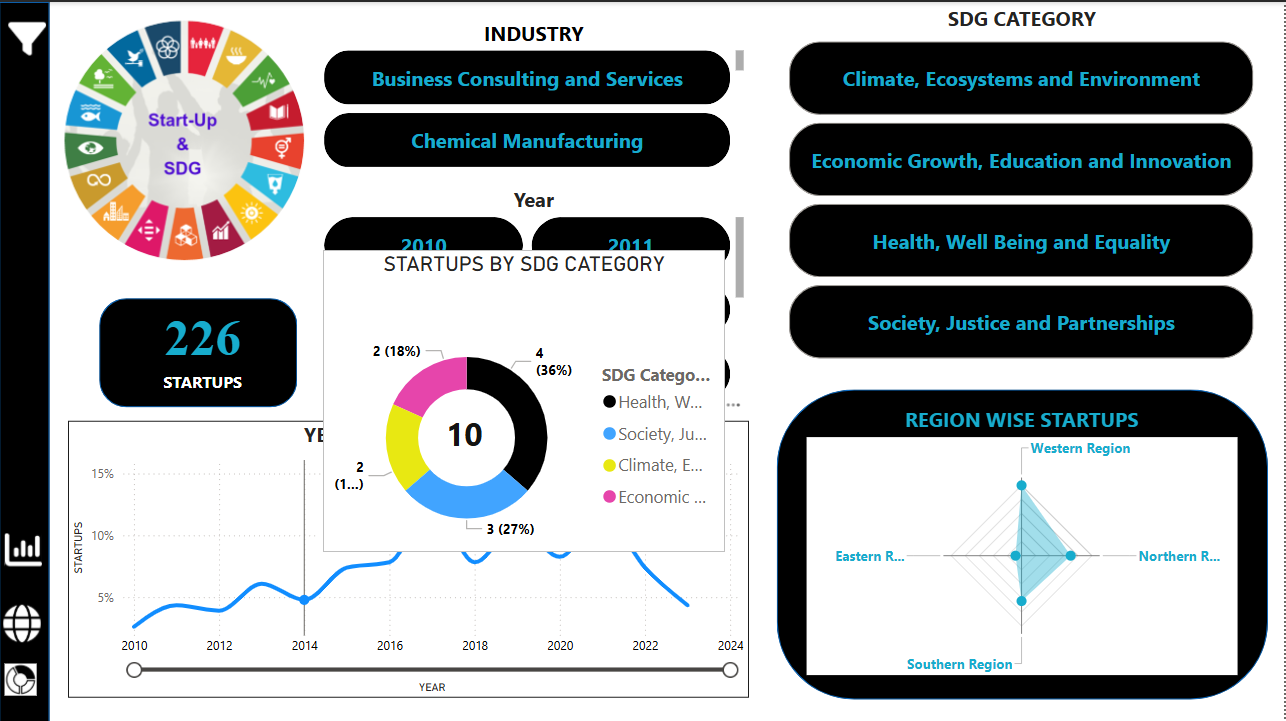

The page's visual inventory and layout, read from the dashboard file:
{"tool":"powerbi","page":{"name":"SDG dashboard ","canvas":[1280,720],"ordinal":0},"visuals":[{"type":"shape","box":[100.2,295.2,197.1,108.6],"z":0,"group":"g1"},{"type":"image","box":[51.4,14.3,268.6,248.6],"z":0},{"type":"cardVisual","fields":{"Data":["Count(Sheet1.Name)"]},"box":[109.6,291.6,186.6,113.9],"z":1000,"group":"g1"},{"type":"shape","box":[767.1,384.2,489.9,308.7],"z":1000},{"type":"group","id":"g1","title":"Startups","box":[100.2,291.6,197.1,113.9],"z":3000},{"type":"advancedSlicerVisual","fields":{"Values":["Sheet1.Industry"]},"box":[320,14.3,427.1,157.1],"z":4000},{"type":"advancedSlicerVisual","title":"SDG CATEGORY","fields":{"Values":["Sheet1.SDG Category (Industry)"]},"box":[782.9,2.9,472.9,358.6],"z":5000},{"type":"advancedSlicerVisual","fields":{"Values":["Sheet1.Year"]},"box":[320,182.9,427.1,221.4],"z":6000},{"type":"lineChart","title":"  YEAR WISE STARTUPS","fields":{"Category":["Sheet1.Year"],"Y":["CountNonNull(Sheet1.Name)"]},"box":[70,417.1,677.1,275.7],"z":7000},{"type":"RadarChart1446119667547","title":"REGION WISE STARTUPS","fields":{"Category":["Sheet1.Region"],"Y":["Count(Sheet1.Name)"]},"box":[783.5,403.4,437.7,271.7],"z":10000},{"type":"actionButton","box":[12.9,28.6,57.1,32.9],"z":11001},{"type":"shape","box":[1.4,0,50,720],"z":11002},{"type":"actionButton","box":[2.7,522.8,81,45.3],"z":11003},{"type":"actionButton","box":[1.4,595.5,81,45.3],"z":11004},{"type":"actionButton","box":[2.9,654.3,85.7,40],"z":11005},{"type":"actionButton","box":[5.7,14.3,70,45.7],"z":11006}]}

Visuals, with their boxes on the page's 1280x720 design canvas (x1, y1, x2, y2). These are canvas units, not pixel positions in the 1286x721 screenshot, which may show the page scaled, cropped or inside an application window:
shape: box(100, 295, 297, 404)
image: box(51, 14, 320, 263)
cardVisual - Count(Sheet1.Name): box(110, 292, 296, 406)
shape: box(767, 384, 1257, 693)
"Startups" group: box(100, 292, 297, 406)
advancedSlicerVisual - Sheet1.Industry: box(320, 14, 747, 171)
"SDG CATEGORY" advancedSlicerVisual: box(783, 3, 1256, 362)
advancedSlicerVisual - Sheet1.Year: box(320, 183, 747, 404)
"  YEAR WISE STARTUPS" lineChart: box(70, 417, 747, 693)
"REGION WISE STARTUPS" RadarChart1446119667547: box(784, 403, 1221, 675)
actionButton: box(13, 29, 70, 62)
shape: box(1, 0, 51, 720)
actionButton: box(3, 523, 84, 568)
actionButton: box(1, 596, 82, 641)
actionButton: box(3, 654, 89, 694)
actionButton: box(6, 14, 76, 60)
